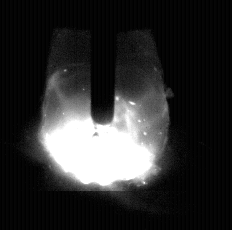arame: (92, 0, 116, 124)
poca: (37, 0, 169, 230)
